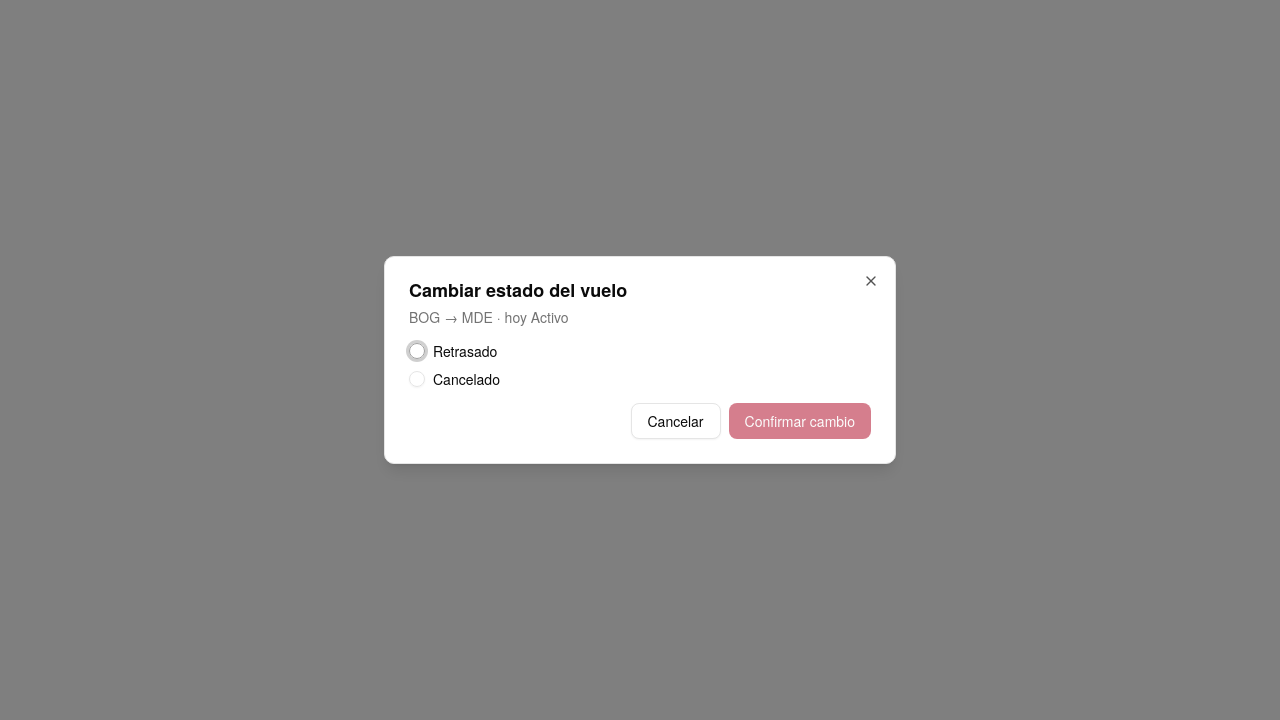
Test: FlightStatusDialog › sends the new status and shows how many reservations were notified
The width and height of the screenshot is (1280, 720).
Later steps or results of the test are not shown.
What coordinates should you click on to do the following:
click the radio button named "Retrasado" next to "Retrasado"
I would click on:
 (417, 351)
Its box is top-left (409, 343), bottom-right (425, 359).
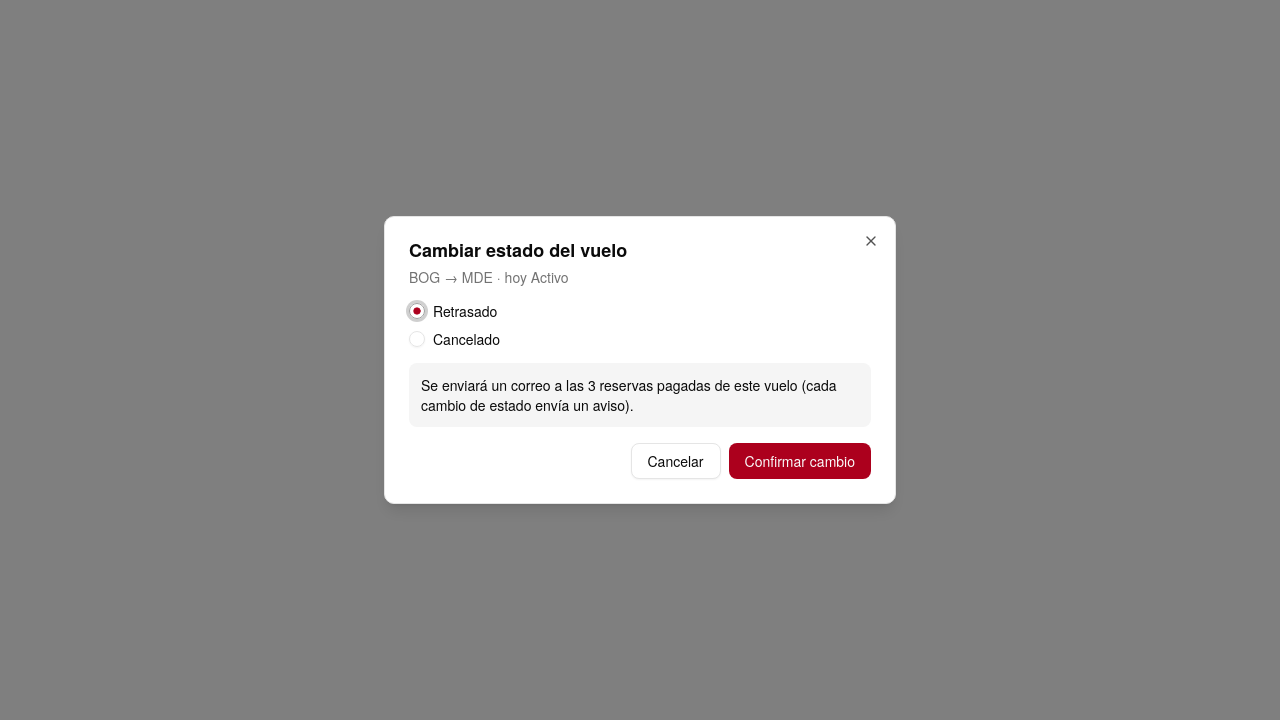
What coordinates should you click on to do the following:
click the button "Confirmar cambio"
I would click on:
 (800, 461)
Its box is top-left (728, 443), bottom-right (871, 479).
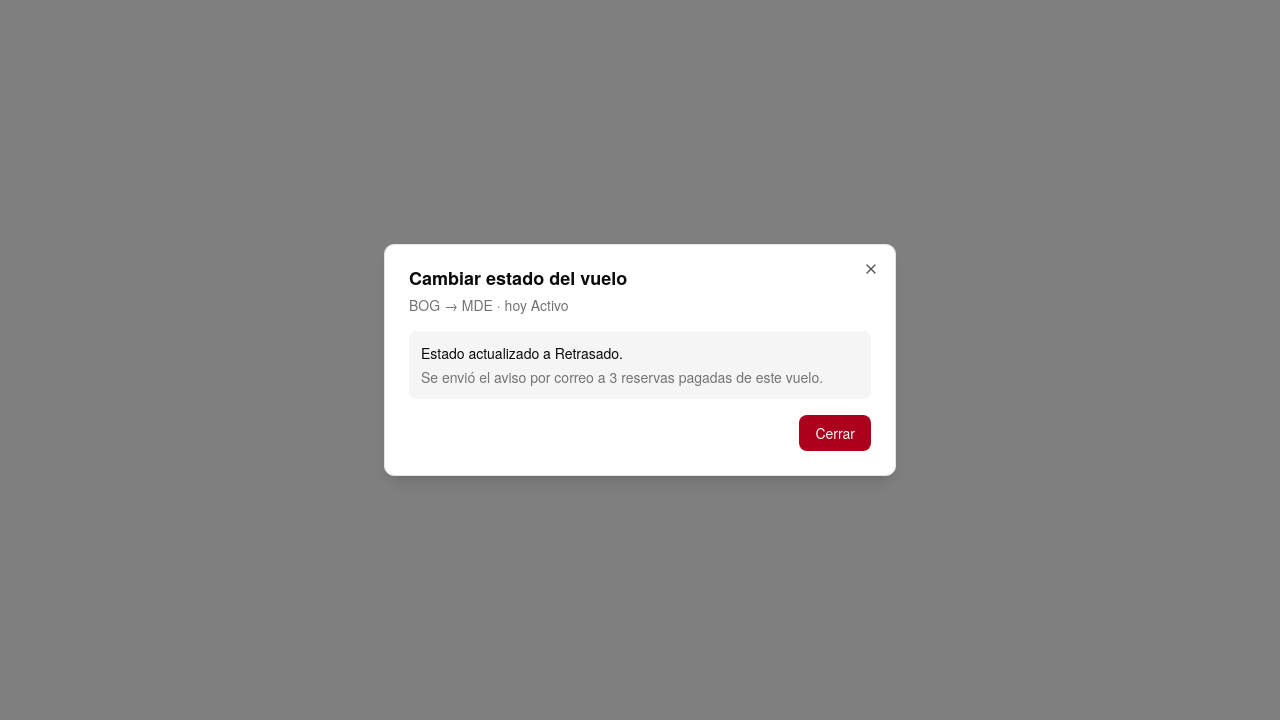
Expected: the text "Se envió el aviso por correo a 3 reservas pagadas" is shown, top-left (421, 367), bottom-right (823, 387)
